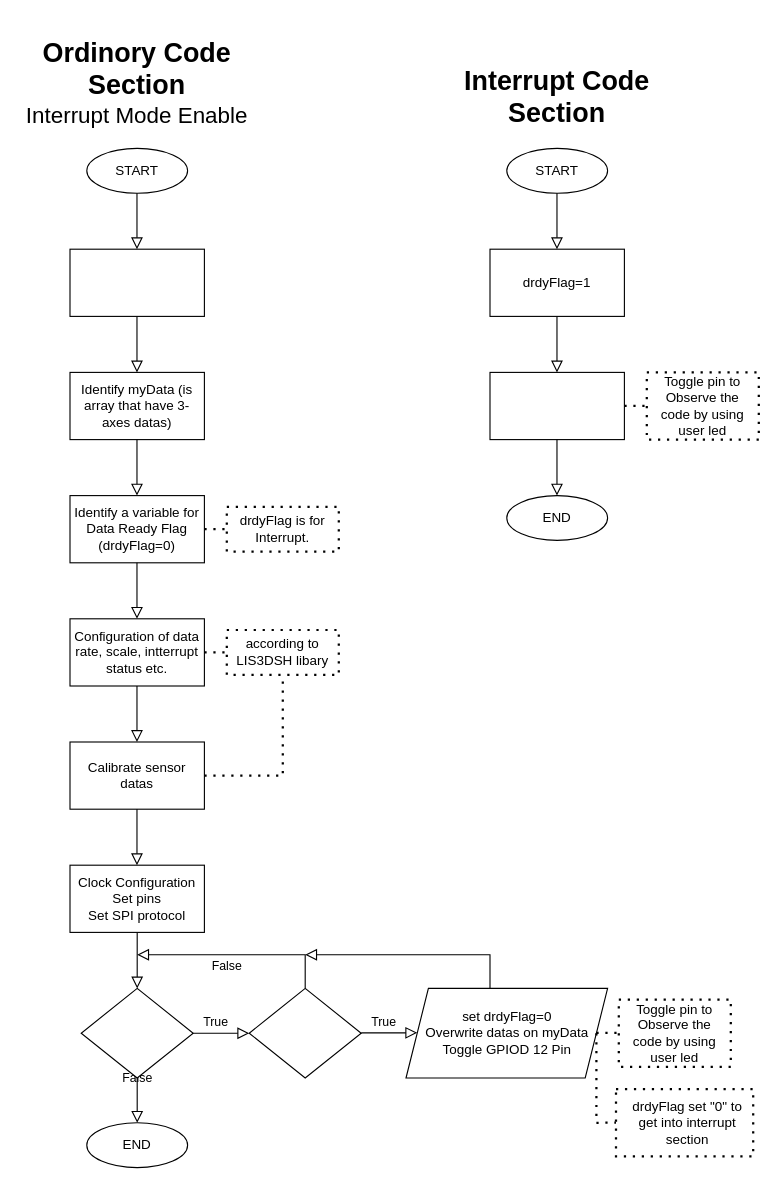
This 780x1187 diagram has some shape labels left out. The centre of each missing label's shape, as x and y in pixels:
"Inculede & initialize Libary" goes at (x=136, y=282).
"Is drdyFlag=1" goes at (x=304, y=1032).
"Toggle GPIOD 13 Pin" goes at (x=556, y=405).
"While(1)" goes at (x=136, y=1032).
